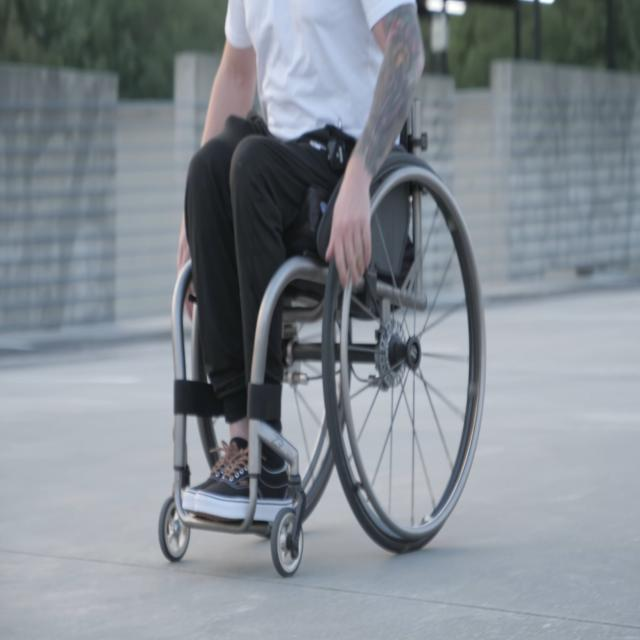wheelchairs: (159, 16, 485, 576)
